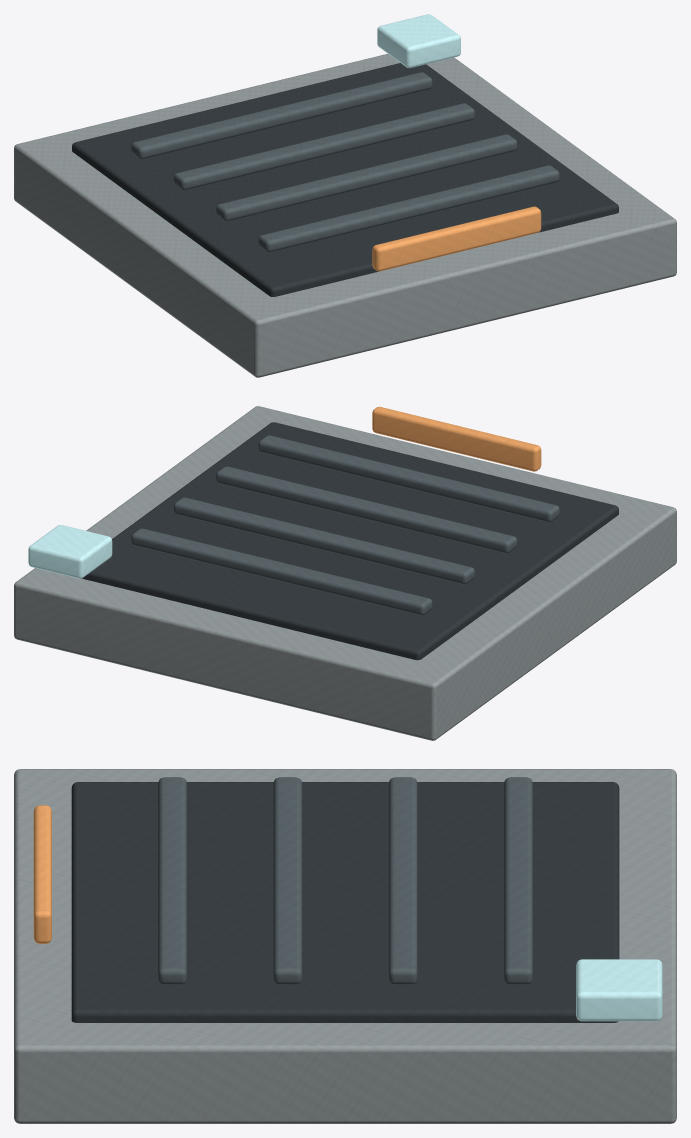
Rendered from ContainmentDrainUnit.glb.
3 renders of one model, top to bottom at view 1: azimuth 30°, elevation 25°; view 2: azimuth 150°, elevation 25°; view 3: azimuth 270°, elevation 25°, orthographic. The views are drawn at different scales.
Visible parts, largest first — view 1: ContainmentDrainUnit_Mesh; view 2: ContainmentDrainUnit_Mesh; view 3: ContainmentDrainUnit_Mesh.
Part boxes in pixels (x1,y1,x2,y2): ContainmentDrainUnit_Mesh: [14, 14, 676, 377]; ContainmentDrainUnit_Mesh: [14, 406, 676, 740]; ContainmentDrainUnit_Mesh: [14, 769, 676, 1123].
Bounding box in the file's own units: 0.92 × 0.195 × 0.92.
Materials: 5 (5 with a texture image).
